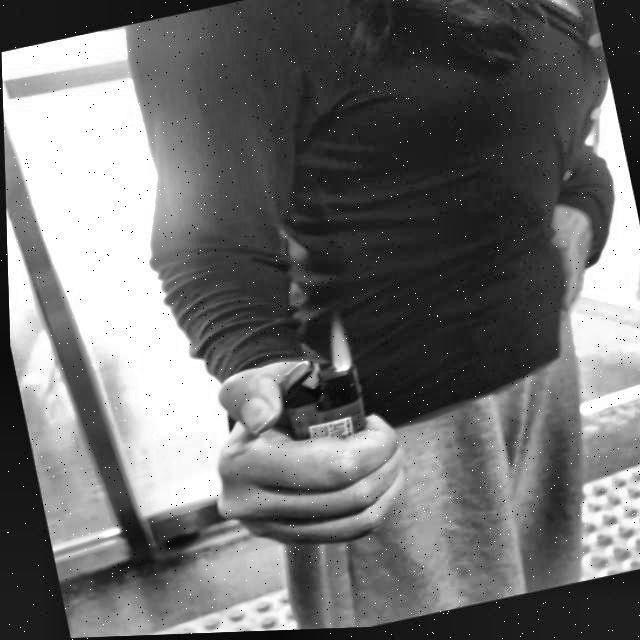Fire: (319, 317, 357, 382)
